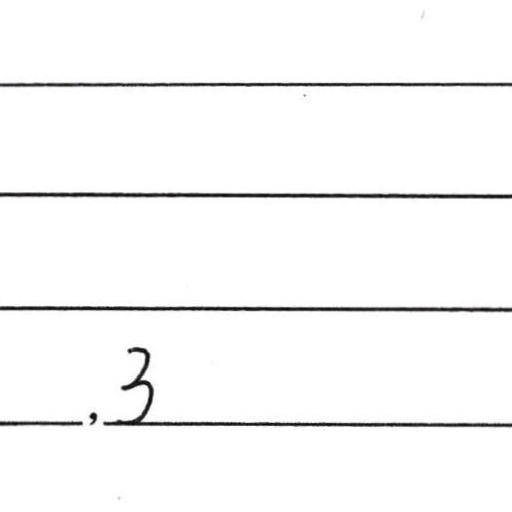ans: (110, 339, 158, 424)
